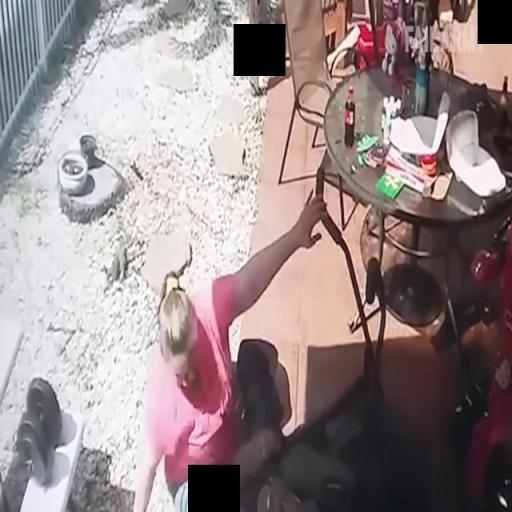Fall: (132, 187, 331, 512)
